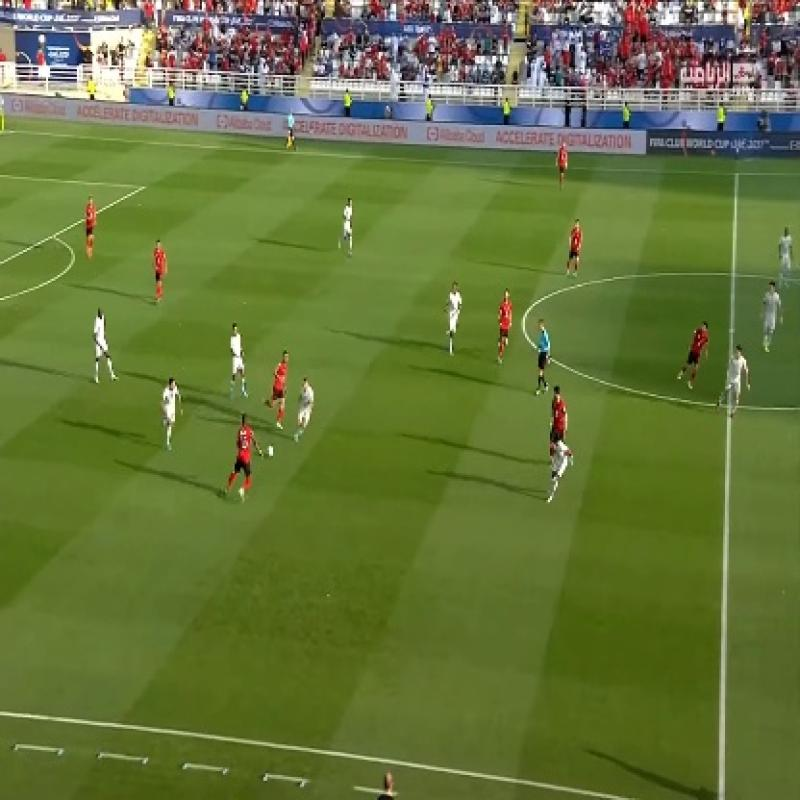1: (0, 120, 10, 136)
10: (42, 223, 60, 244)
13: (726, 160, 744, 182)
14: (723, 262, 744, 284)
9: (132, 175, 150, 196)
c: (512, 308, 535, 334)
